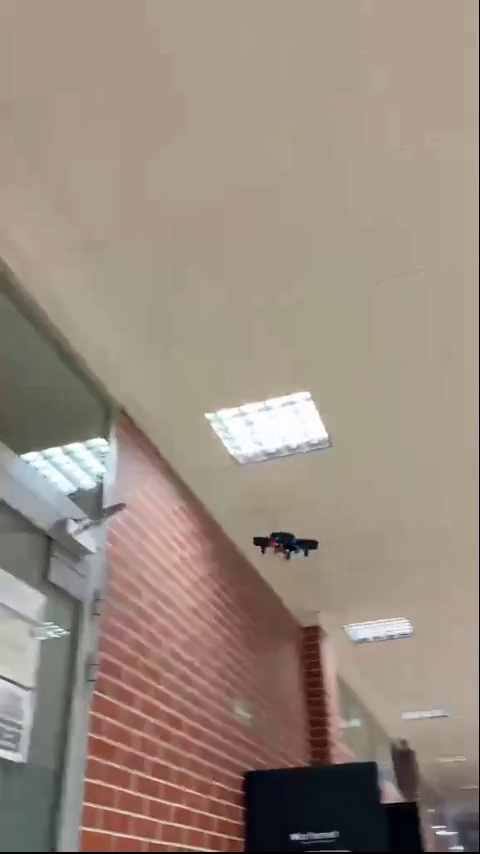drone: (254, 529, 319, 560)
